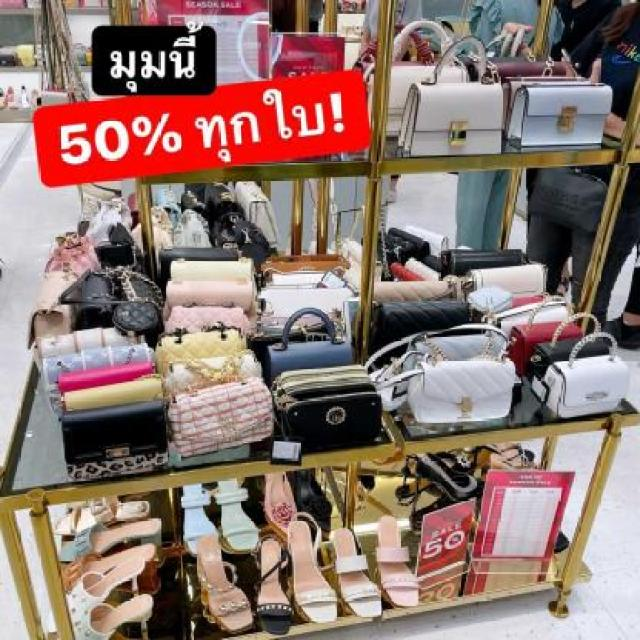Bag: (374, 19, 509, 161), (265, 348, 403, 452), (507, 71, 618, 174), (524, 322, 630, 427), (403, 334, 515, 431), (169, 362, 276, 463), (58, 394, 171, 483)
